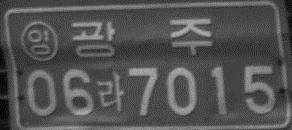0: (26, 68, 57, 118), (166, 67, 197, 117)
1: (203, 66, 236, 115)
5: (243, 64, 276, 115)
6: (62, 68, 94, 117)
7: (127, 66, 157, 116)
광주_D: (70, 17, 212, 58)
라: (96, 71, 125, 111)
영: (19, 19, 58, 62)
